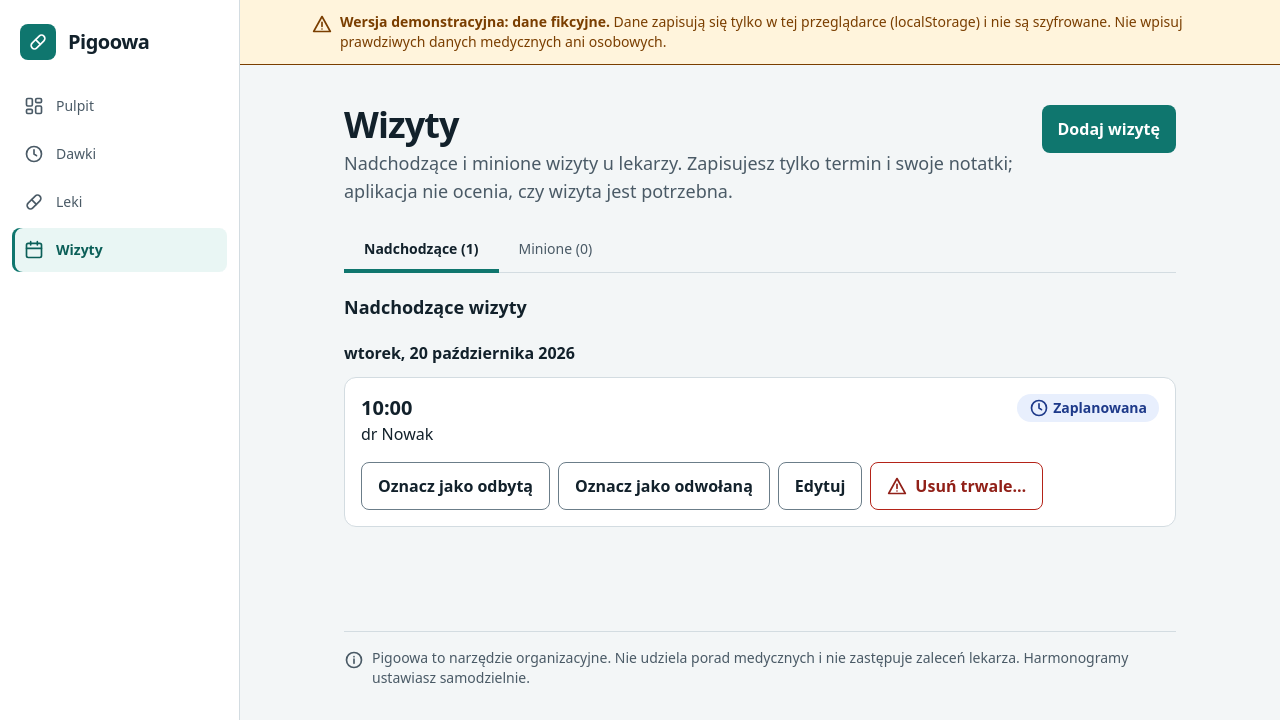
Test: appointments: changing the status › marks an upcoming appointment cancelled
Click the button "Oznacz jako odwołaną" at (664, 486), box x1=558 y1=462 x2=770 y2=510
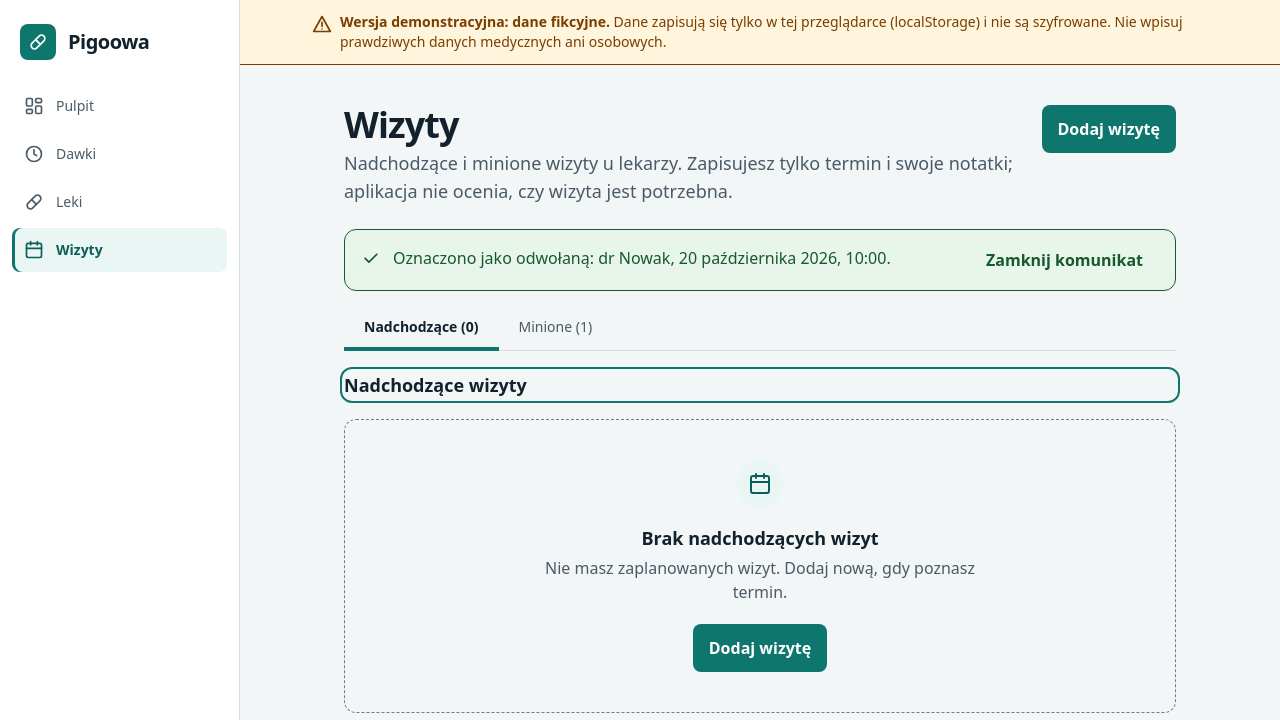
Result: the text "Oznaczono jako odwołaną: dr Nowak" is shown at x1=393 y1=247 x2=891 y2=269
